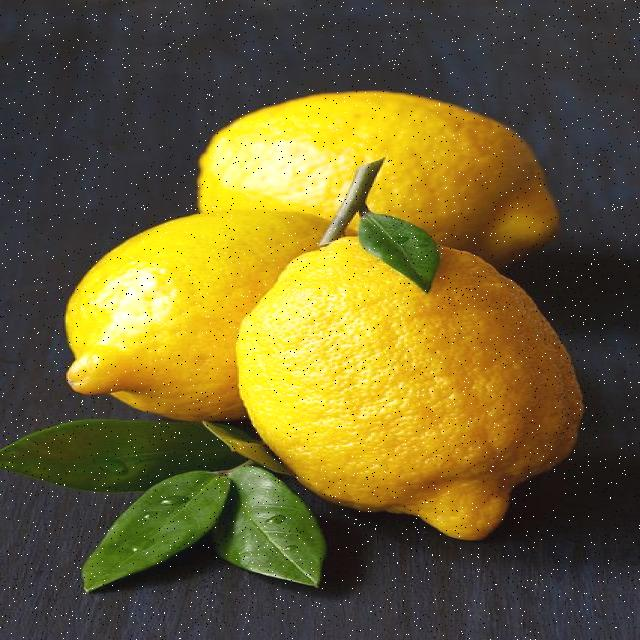Lemon: (237, 211, 583, 540), (200, 91, 559, 264), (65, 210, 328, 422)
